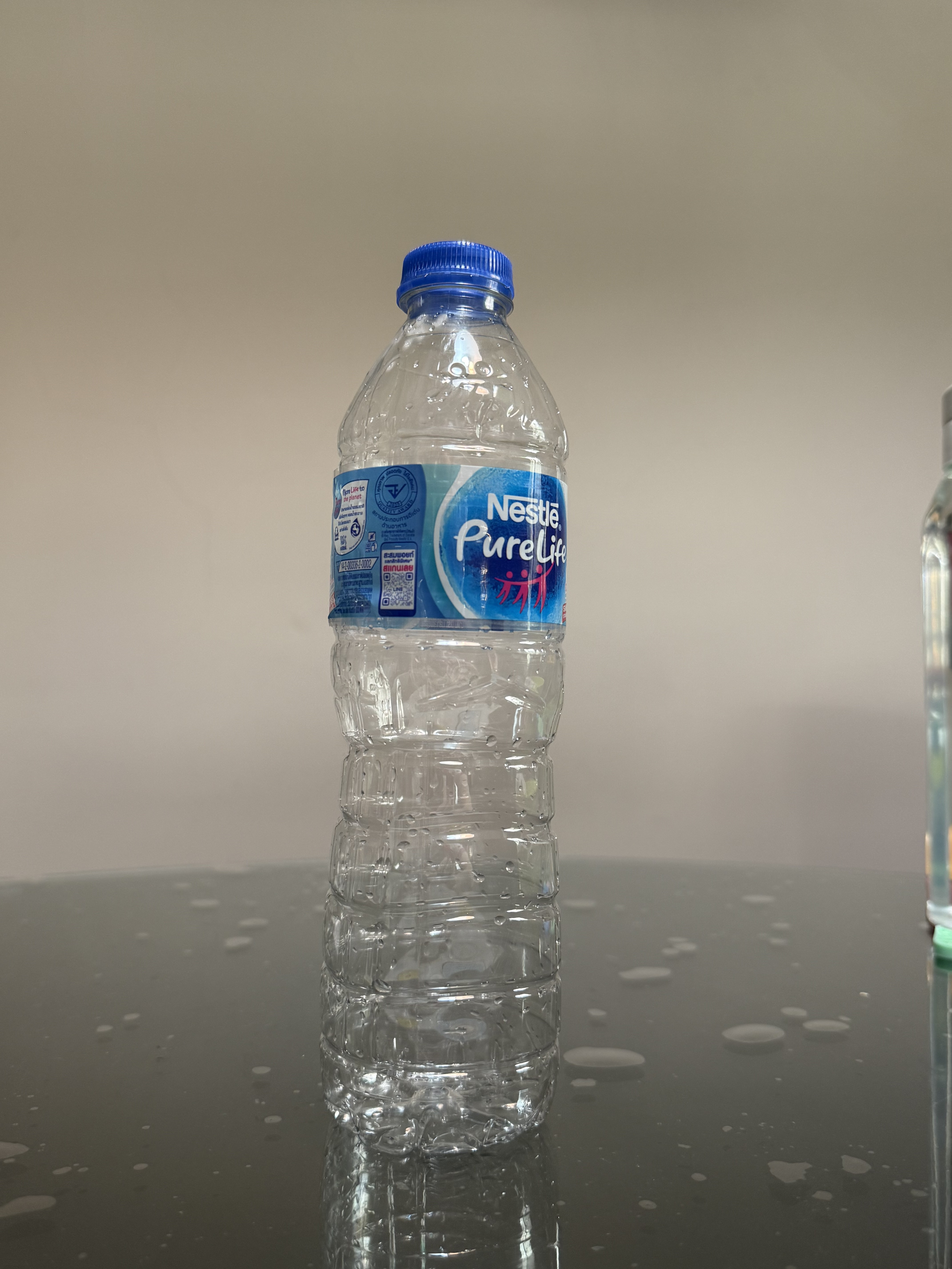closed_cap: (394, 237, 516, 313)
